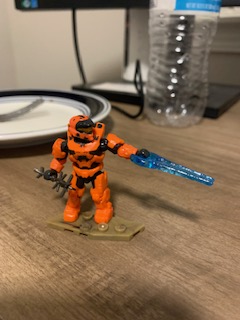spartan: (44, 115, 149, 229)
